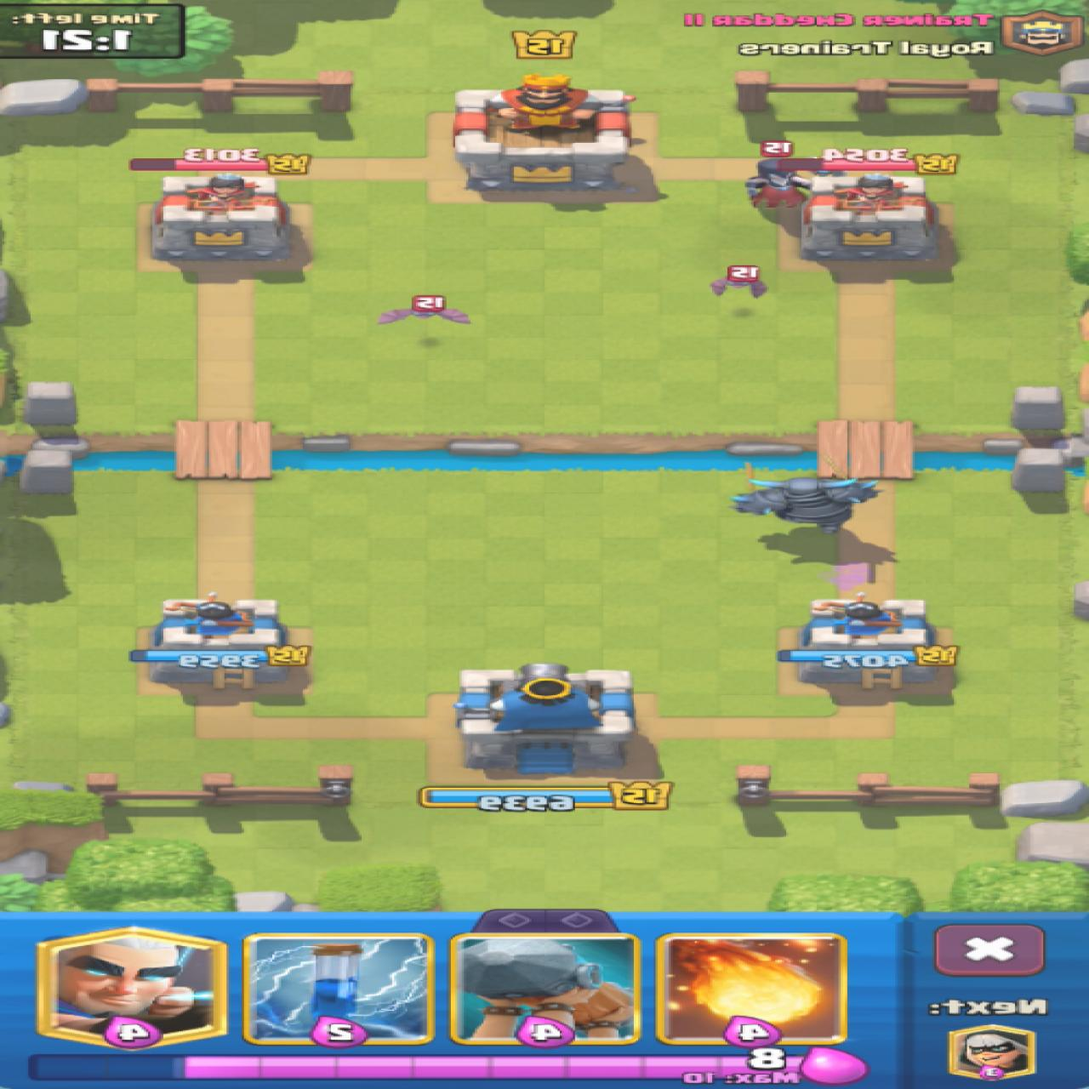Enemy-Bat: (2, 0, 1089, 657), (379, 296, 470, 323), (712, 266, 764, 298)
Enemy-KingTower: (455, 75, 632, 192)
Enemy-NightWitch: (747, 159, 810, 207), (817, 171, 843, 176)
Enemy-PrincessTower: (152, 174, 292, 263), (804, 172, 939, 259)
